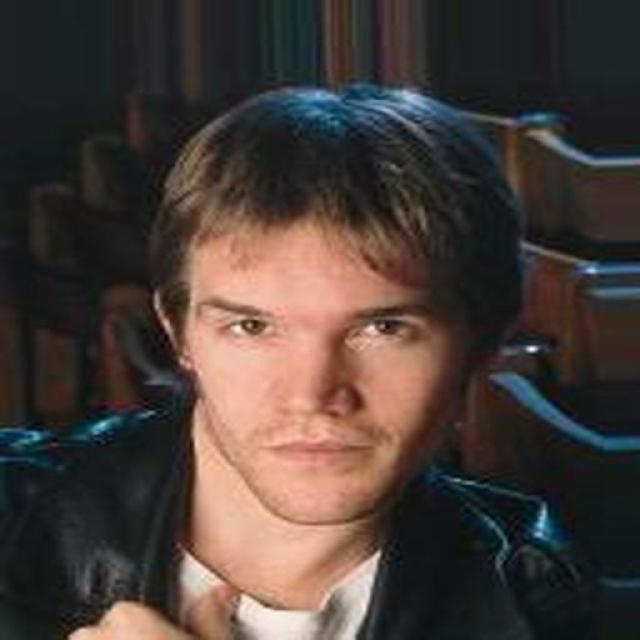bareface: (165, 83, 525, 533)
